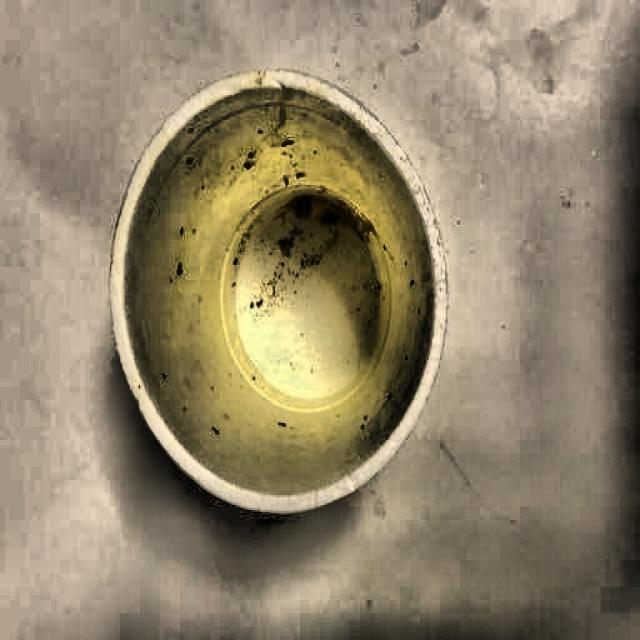trash: (131, 59, 425, 520)
